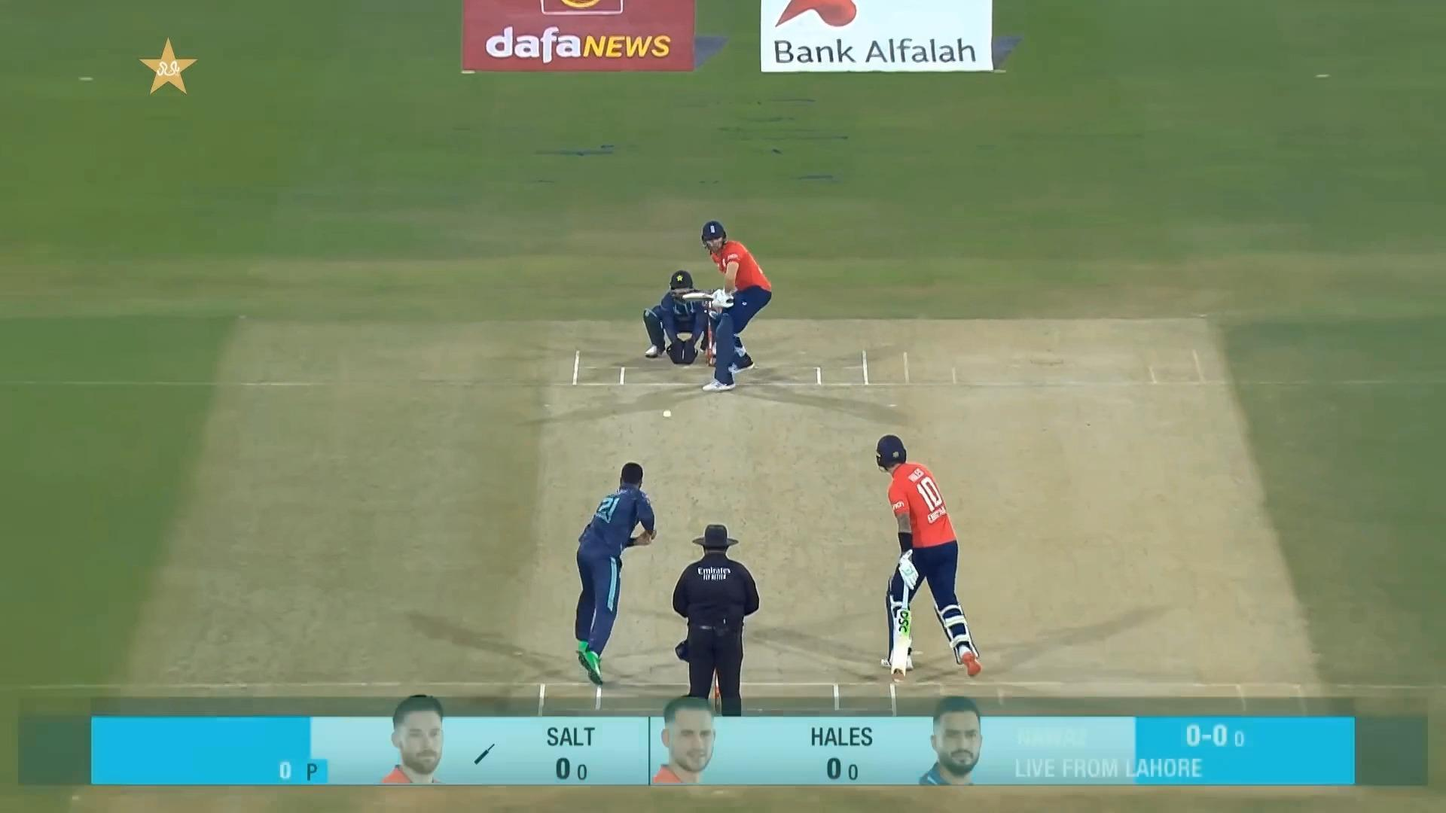BM 1: (682, 221, 772, 392)
BO: (575, 461, 656, 685)
